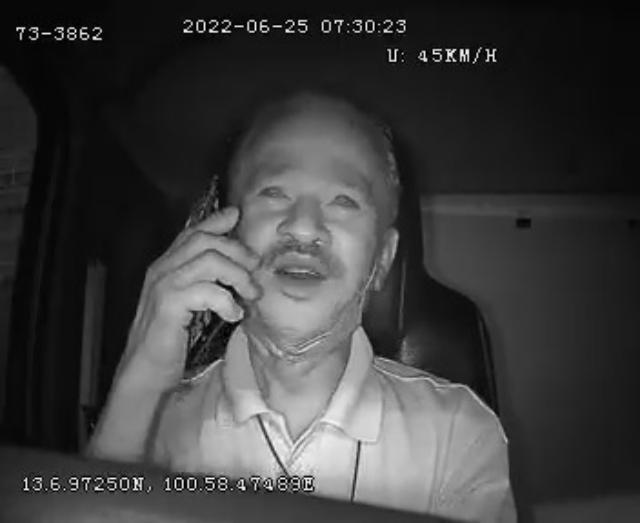PhoneUse: (178, 174, 242, 370)
SafeDriving: (317, 177, 368, 220), (252, 170, 298, 210)
